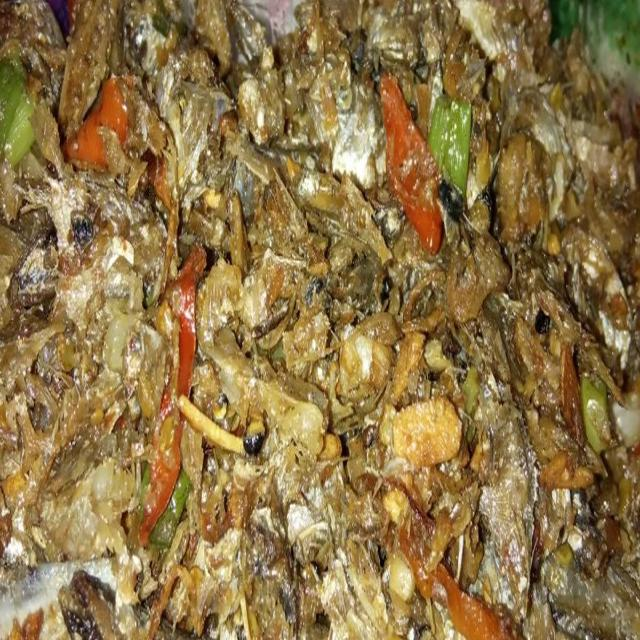Organik: (4, 2, 638, 634)
